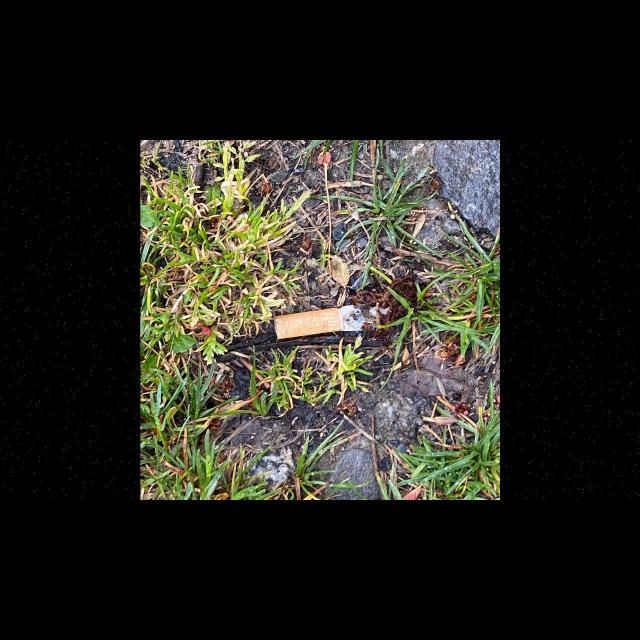cigarette: (274, 304, 366, 340)
